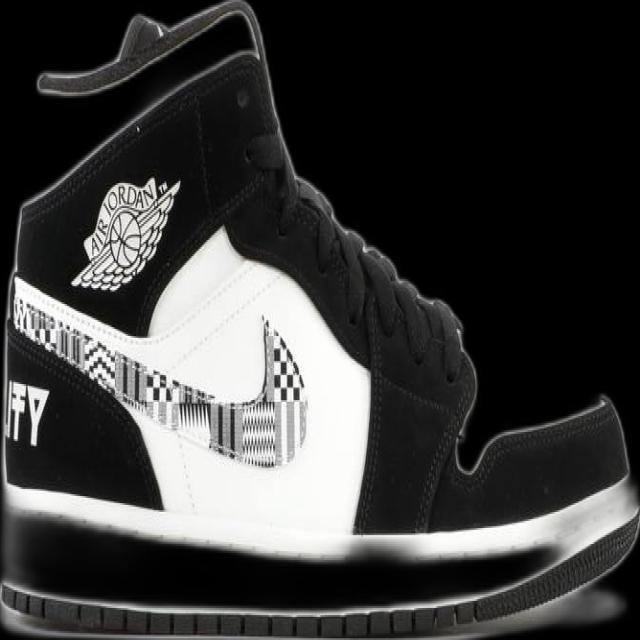J1_InsoleChar: (0, 0, 639, 639)
J1_ShoeLogo: (68, 174, 182, 293), (4, 378, 51, 448)
J1_StitchPattern: (0, 508, 639, 639), (7, 284, 309, 468), (293, 183, 467, 377), (10, 295, 156, 405), (263, 324, 308, 465), (207, 401, 298, 464)
